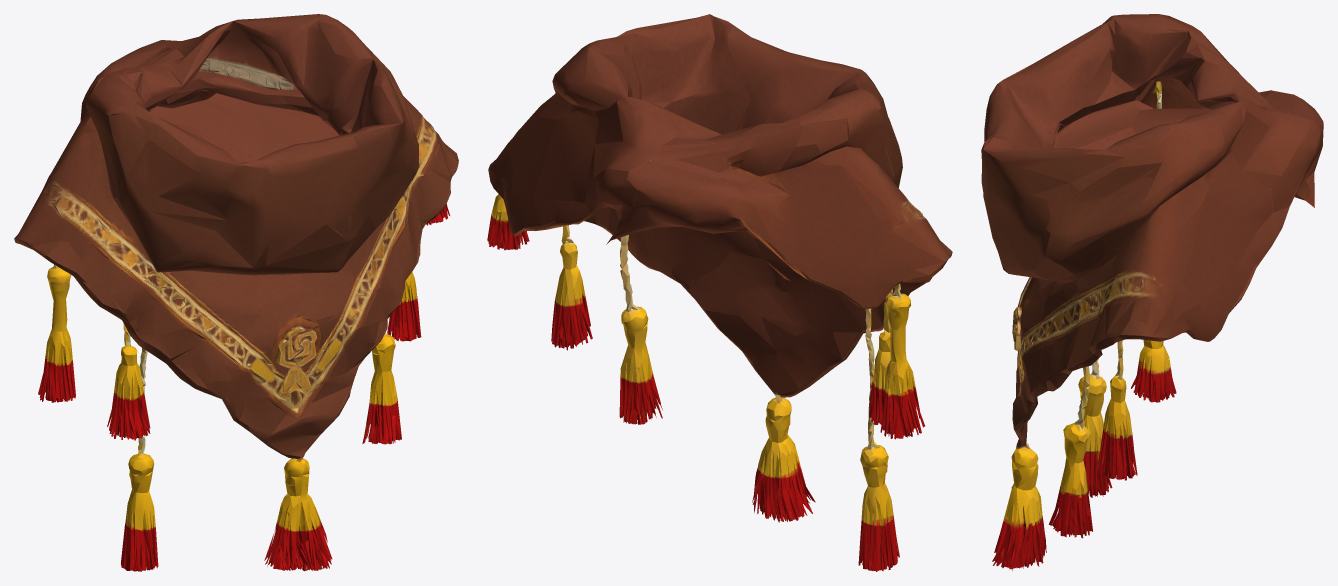
Rendered from ACC_SILK_SCARF_001.glb.
3 renders of one model, left to right at view 1: azimuth 30°, elevation 25°; view 2: azimuth 150°, elevation 25°; view 3: azimuth 270°, elevation 25°, orthographic. The views are drawn at different scales.
Bounding box in the file's own units: 1.83 × 1.9 × 1.2.
1 material, 1 textured.
